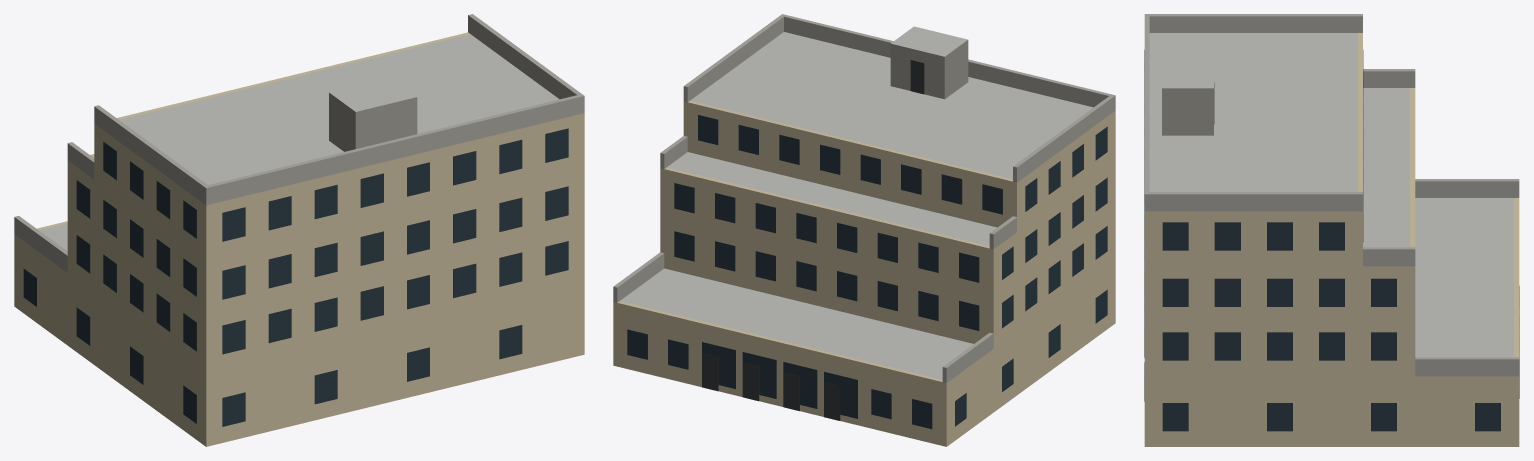
Rendered from bld_hospital_quest.glb.
3 renders of one model, left to right at view 1: azimuth 30°, elevation 25°; view 2: azimuth 150°, elevation 25°; view 3: azimuth 270°, elevation 25°, orthographic. The views are drawn at different scales.
Parts seen in each view (by area): view 1: bld_hospital_quest-col; view 2: bld_hospital_quest-col; view 3: bld_hospital_quest-col.
Boxes of the visible parts, x1,y1,x2,y2 form: bld_hospital_quest-col: (14, 14, 584, 446); bld_hospital_quest-col: (613, 14, 1115, 446); bld_hospital_quest-col: (1144, 14, 1519, 446).
Bounding box in the file's own units: 24.62 × 18 × 21.63.
